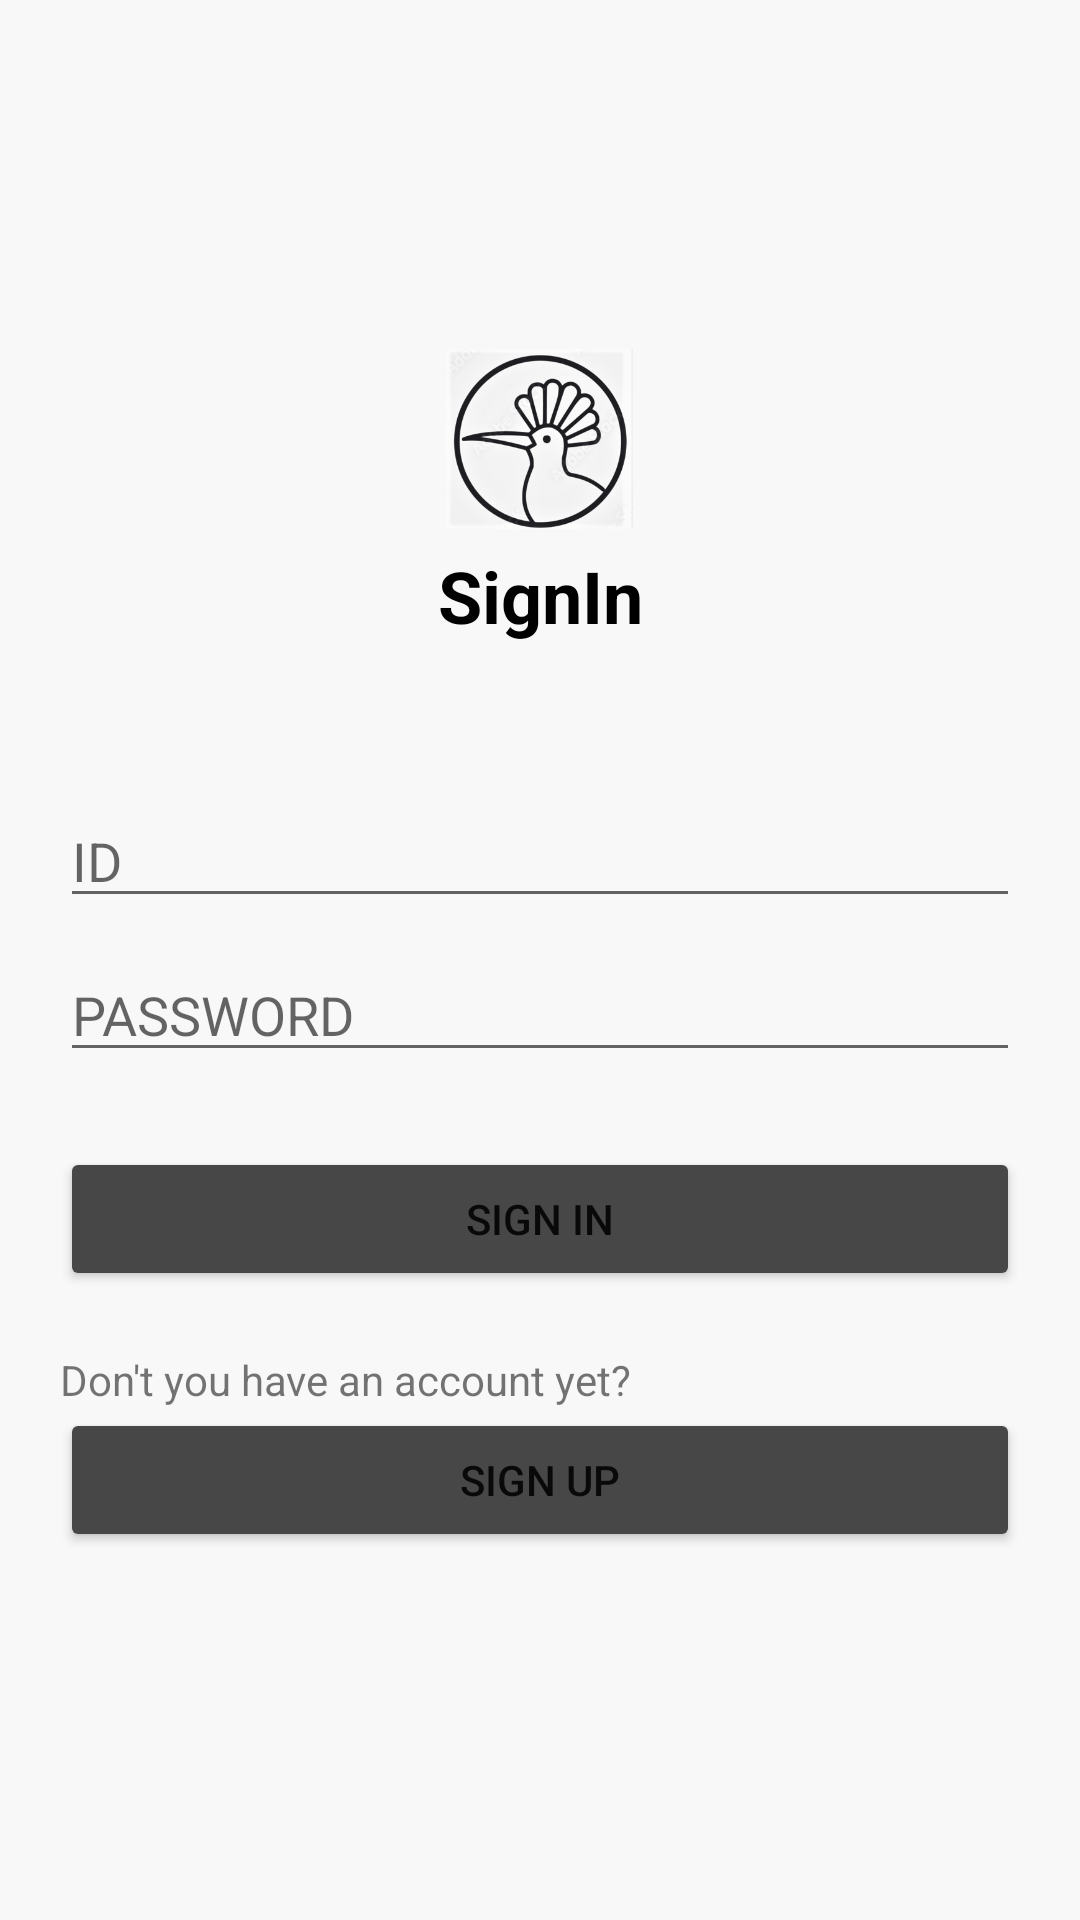

Named icons in this screenshot (1080×1920) and their centers, (x,y):
hoopoe: (540,441)
